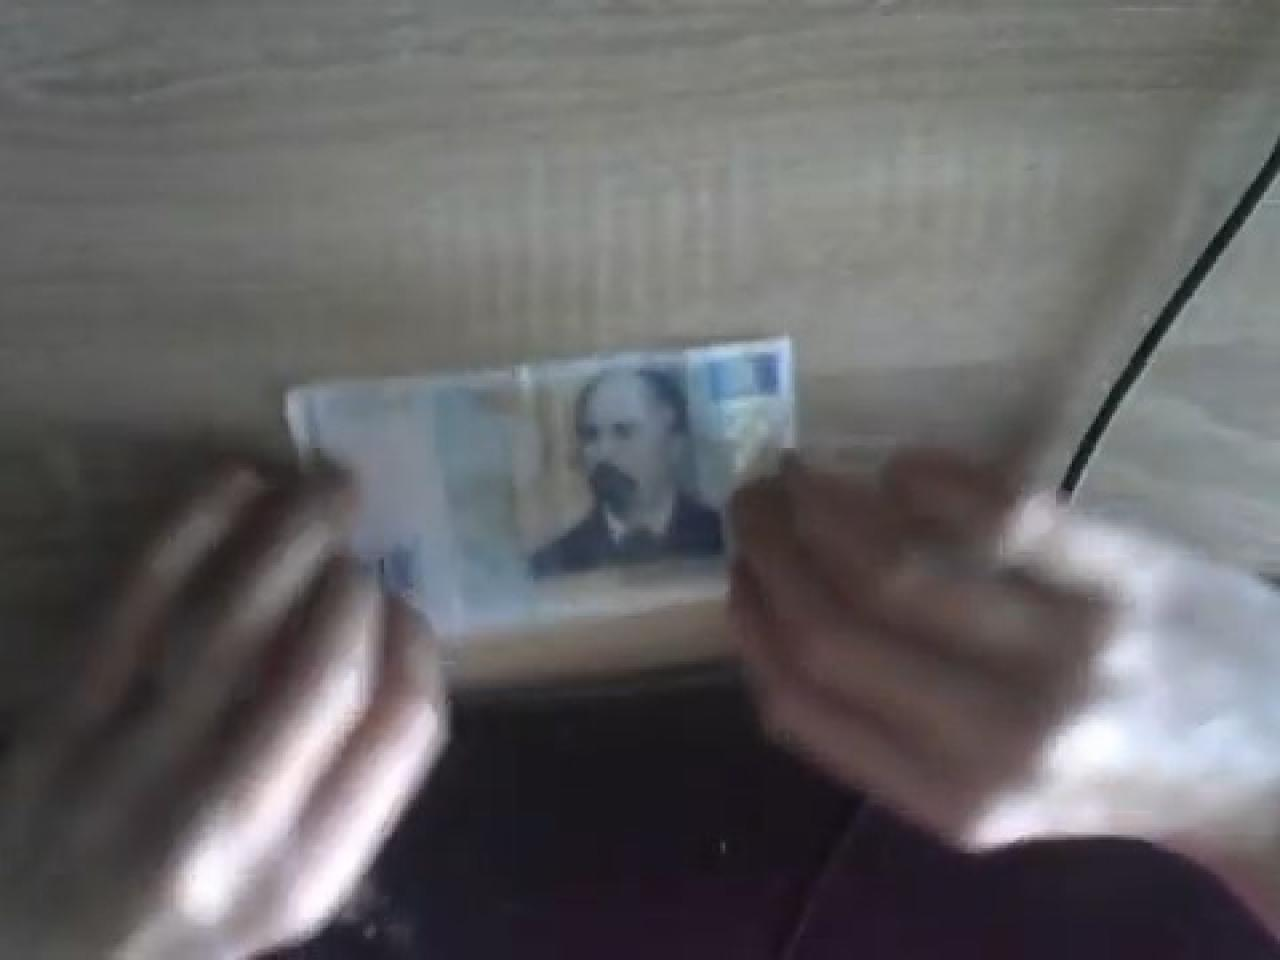20leva: (355, 339, 797, 621)
